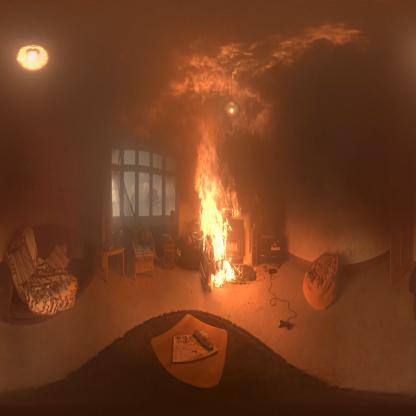fire: (199, 189, 246, 312)
smoke: (4, 1, 416, 416)
